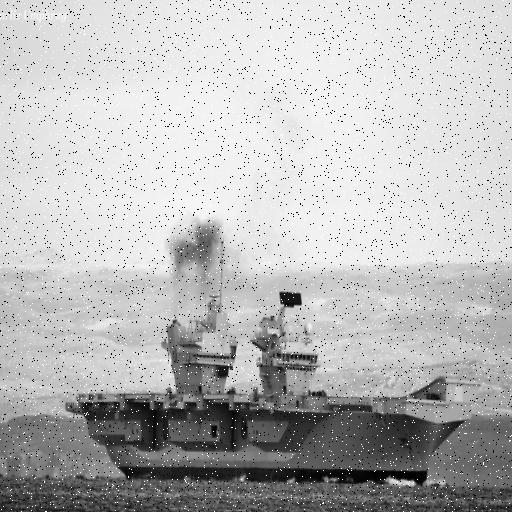Portanaves: (59, 257, 480, 488)
